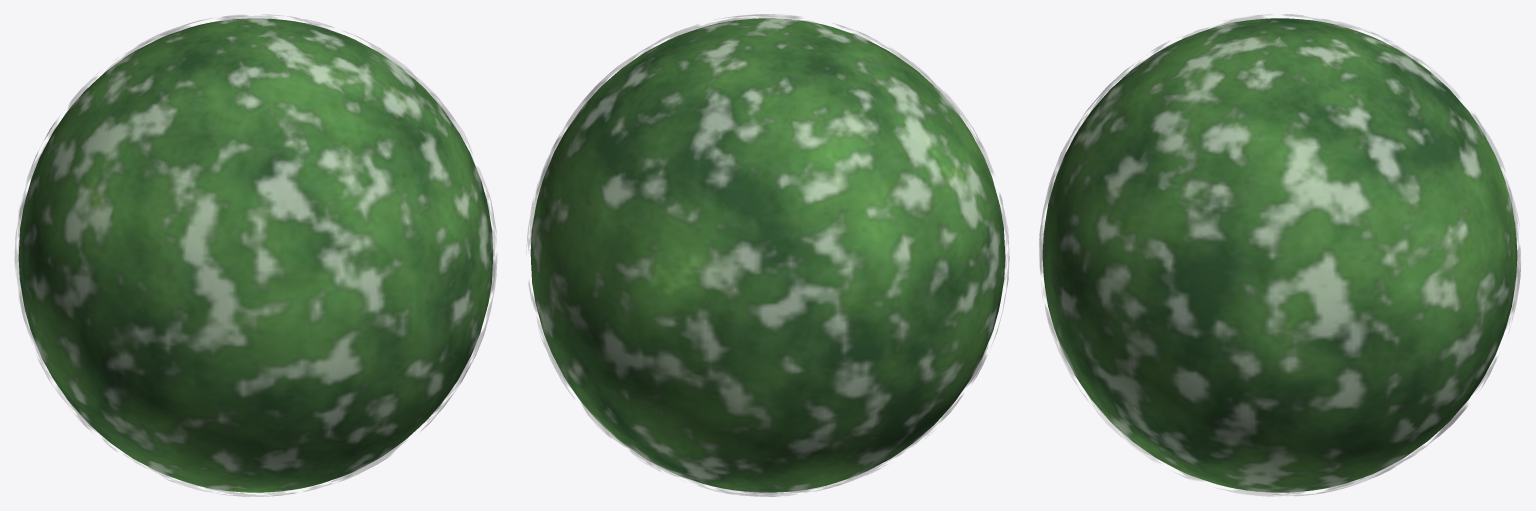
File: planet_acid_002.glb
The picture shows the model from 3 angles, left to right: view 1: azimuth 30°, elevation 25°; view 2: azimuth 150°, elevation 25°; view 3: azimuth 270°, elevation 25°; orthographic projection.
Parts seen in each view (by area): view 1: Planet_acid_002, Clouds_acid_002; view 2: Planet_acid_002, Clouds_acid_002; view 3: Planet_acid_002, Clouds_acid_002.
Part boxes in pixels (bbox=[...]): Planet_acid_002: bbox=[18, 18, 493, 492]; Clouds_acid_002: bbox=[15, 14, 497, 496]; Planet_acid_002: bbox=[530, 18, 1005, 492]; Clouds_acid_002: bbox=[526, 14, 1009, 496]; Planet_acid_002: bbox=[1042, 18, 1517, 492]; Clouds_acid_002: bbox=[1039, 14, 1520, 496].
Bounding box in the file's own units: 2.04 × 2.04 × 2.04.
2 materials, 2 textured.
